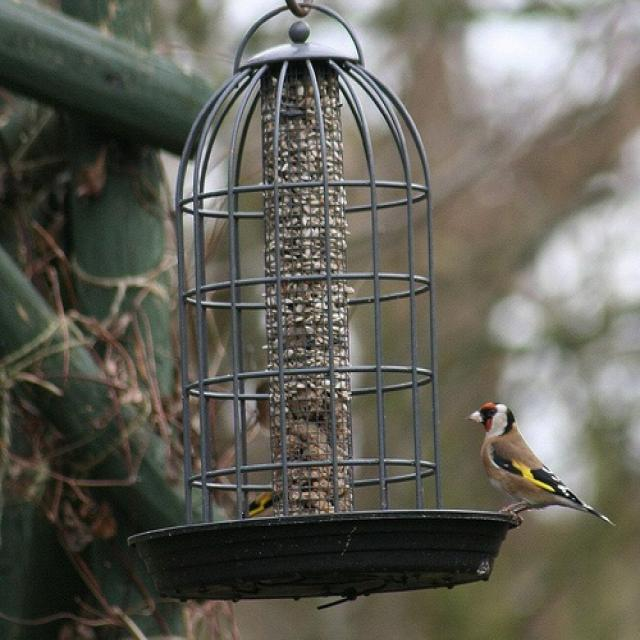bird: (463, 400, 616, 536)
